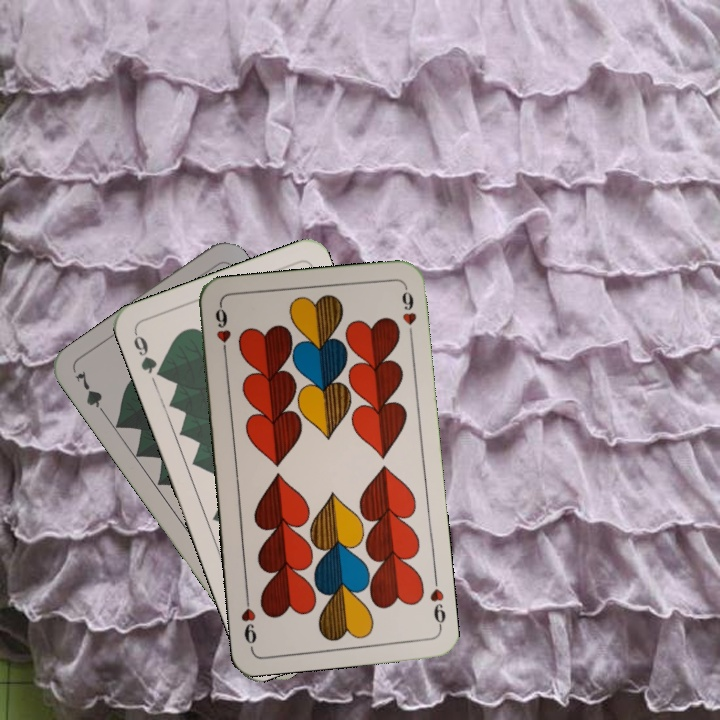G7: (70, 366, 111, 421)
G9: (129, 328, 168, 381)
H9: (211, 302, 234, 361), (426, 573, 449, 632)
